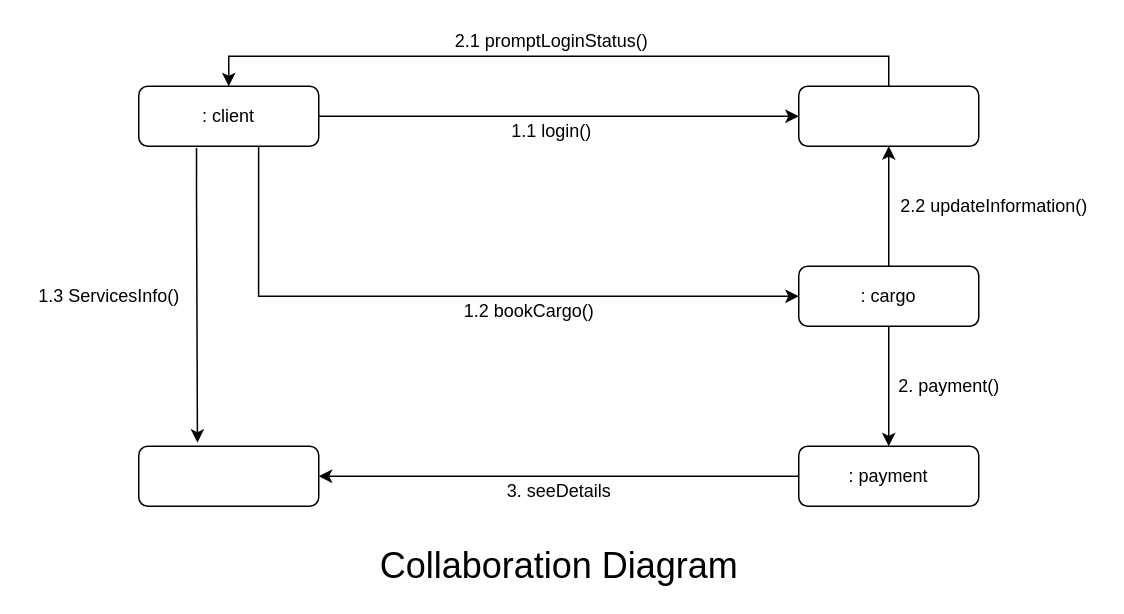
This 1124x614 diagram has some shape labels left out. The centre of each missing label's shape, as x and y in pixels:
: agency: point 228,475
: Server: point 888,115
